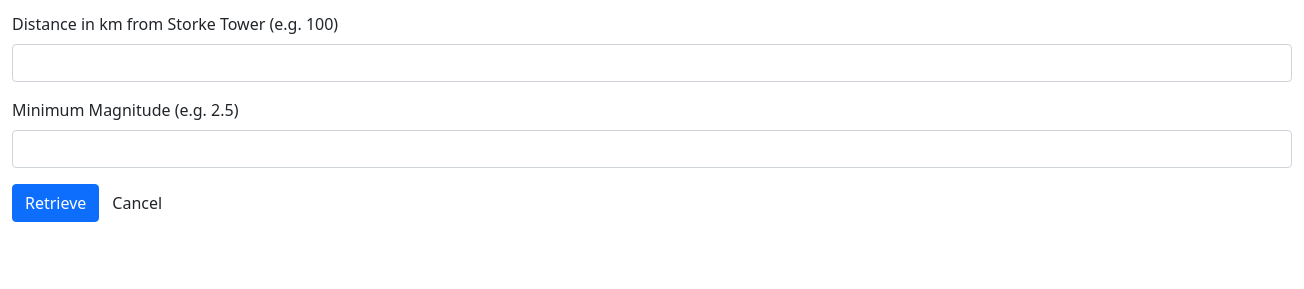
Test case: EarthquakesForm tests › Correct Error messsages on missing input
Click the button with test id "EarthquakesForm-retrieve". click: (56, 203)
box: [12,184,99,222]
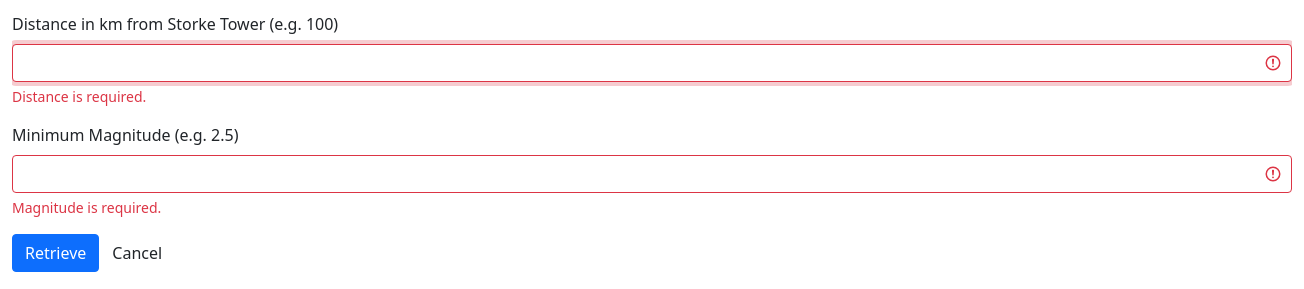
Expected: the text "Distance is required." is shown, [12,87,146,106]
Expected: the text "Magnitude is required." is shown, [12,198,161,217]
